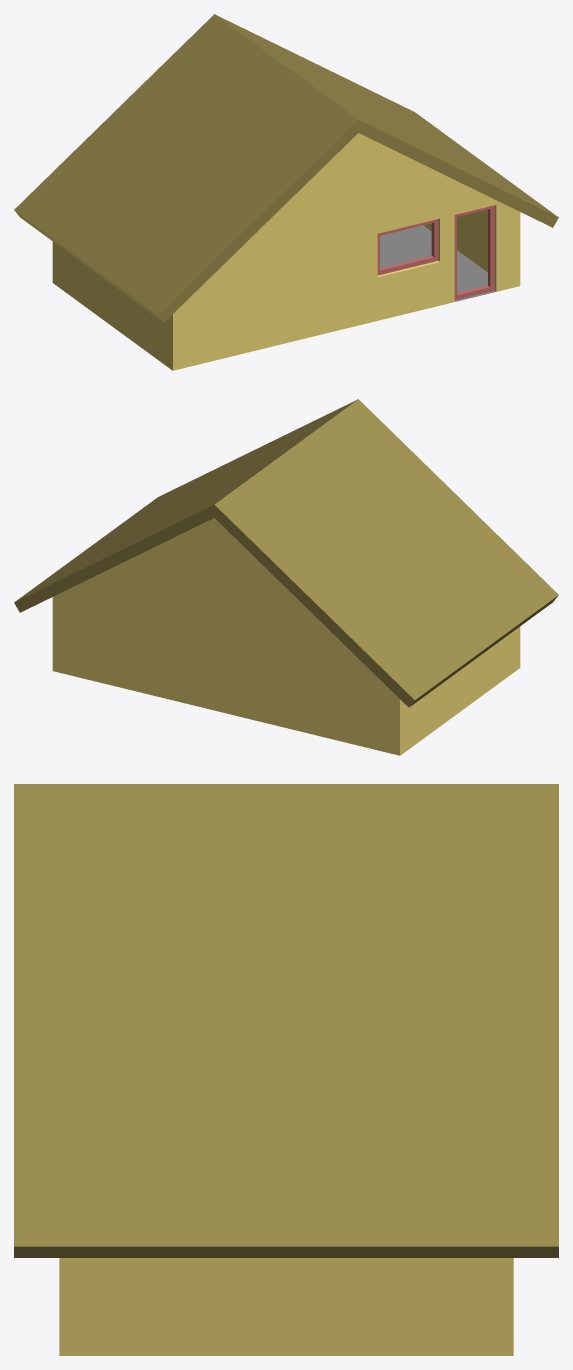
Rendered from result.glb.
The picture shows the model from 3 angles, top to bottom: view 1: azimuth 30°, elevation 25°; view 2: azimuth 150°, elevation 25°; view 3: azimuth 270°, elevation 25°; orthographic projection. The views are drawn at different scales.
Parts seen in each view (by area): view 1: a9087b30-e299-4101-8cd4-3631976fb57e__undefined (×2), 082dcad4-863c-4c84-8d5b-71a62d512649__undefined, 2377c1fe-9e01-4afa-83fc-6c381e35c010__Plane_6, 22e8d371-4e27-4c04-b342-79a21bf1f8e3__Box, 61292719-b593-427f-a7ef-0a017a42dcea__Box_3; view 2: a9087b30-e299-4101-8cd4-3631976fb57e__undefined (×2), 082dcad4-863c-4c84-8d5b-71a62d512649__undefined; view 3: a9087b30-e299-4101-8cd4-3631976fb57e__undefined, 082dcad4-863c-4c84-8d5b-71a62d512649__undefined.
Part boxes in pixels (x1=…): a9087b30-e299-4101-8cd4-3631976fb57e__undefined (×2): x1=14, y1=14, x2=558, y2=322; 082dcad4-863c-4c84-8d5b-71a62d512649__undefined: x1=52, y1=133, x2=520, y2=370; 2377c1fe-9e01-4afa-83fc-6c381e35c010__Plane_6: x1=380, y1=225, x2=495, y2=301; 22e8d371-4e27-4c04-b342-79a21bf1f8e3__Box: x1=454, y1=205, x2=494, y2=299; 61292719-b593-427f-a7ef-0a017a42dcea__Box_3: x1=377, y1=219, x2=438, y2=275; a9087b30-e299-4101-8cd4-3631976fb57e__undefined (×2): x1=14, y1=399, x2=558, y2=707; 082dcad4-863c-4c84-8d5b-71a62d512649__undefined: x1=52, y1=518, x2=520, y2=755; a9087b30-e299-4101-8cd4-3631976fb57e__undefined: x1=14, y1=784, x2=558, y2=1257; 082dcad4-863c-4c84-8d5b-71a62d512649__undefined: x1=59, y1=1258, x2=513, y2=1355.
Bounding box in the file's own units: 964 × 500 × 600.
